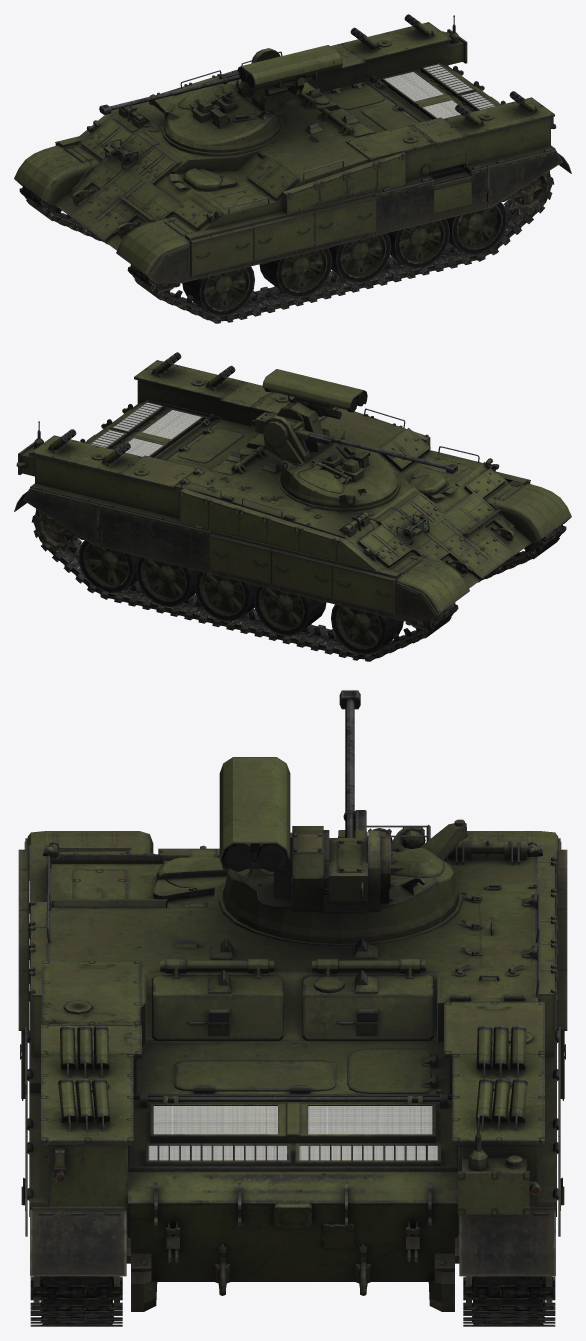
File: tankModel.glb
The picture shows the model from 3 angles, top to bottom: view 1: azimuth 30°, elevation 25°; view 2: azimuth 150°, elevation 25°; view 3: azimuth 270°, elevation 25°; orthographic projection. The views are drawn at different scales.
Visible parts, largest first — view 1: Object_2, Object_3; view 2: Object_2, Object_3; view 3: Object_2, Object_3.
Boxes of the visible parts, box(x1,y1,x2,y2) form: Object_2: box(14, 14, 571, 316); Object_3: box(19, 170, 554, 323); Object_2: box(14, 352, 571, 654); Object_3: box(31, 508, 566, 661); Object_2: box(18, 690, 567, 1315); Object_3: box(30, 1276, 555, 1326).
Size of the model in its own units: 26.48 by 11.42 by 14.64.
Materials: 2 (2 with a texture image).
